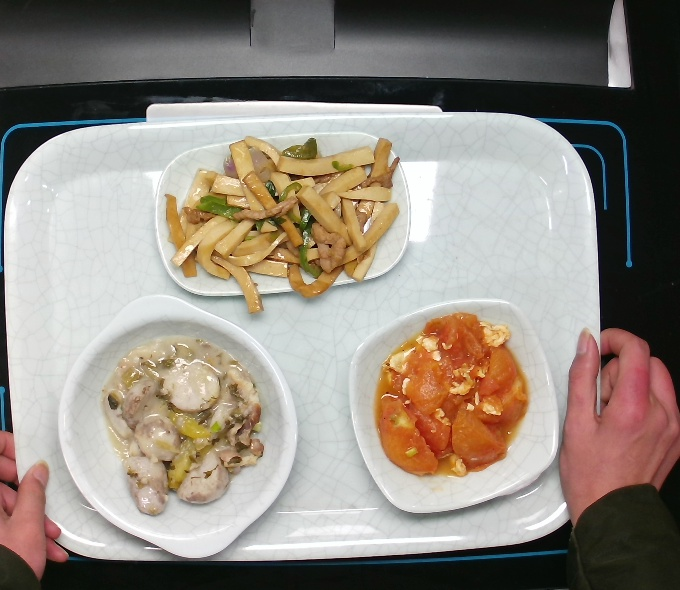wcq-FanQieChaoDan: (365, 309, 536, 483)
wcq-QianYeDouFu: (153, 123, 408, 321)
wcq-YangYu: (93, 334, 274, 526)
